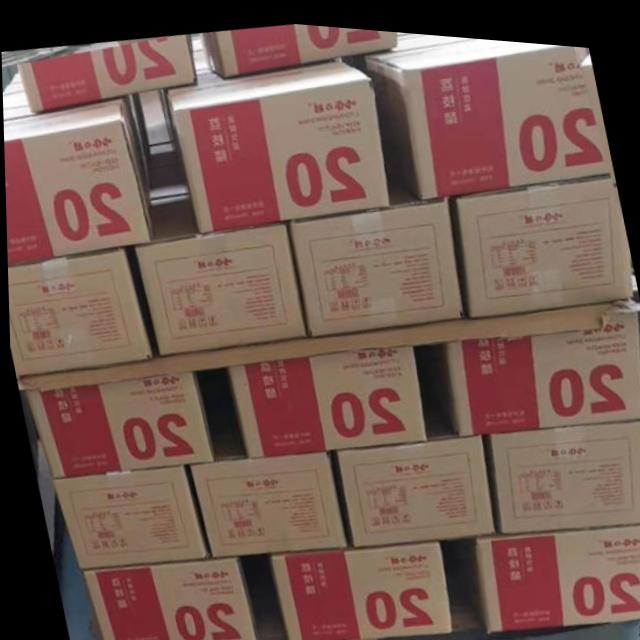box: (355, 30, 612, 192), (164, 53, 389, 229), (410, 300, 640, 428), (284, 170, 463, 332), (132, 190, 305, 353), (448, 163, 631, 309), (3, 92, 152, 264), (222, 338, 425, 453), (23, 367, 211, 478), (334, 412, 493, 540), (464, 513, 640, 624), (188, 434, 350, 554), (6, 243, 154, 374), (267, 533, 448, 639), (480, 411, 640, 525), (78, 548, 274, 640), (49, 461, 207, 568), (16, 31, 196, 112), (199, 19, 397, 73)
